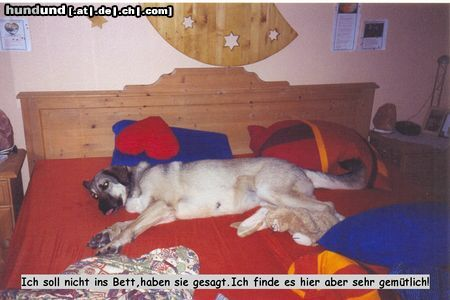kangal: (81, 156, 368, 255)
